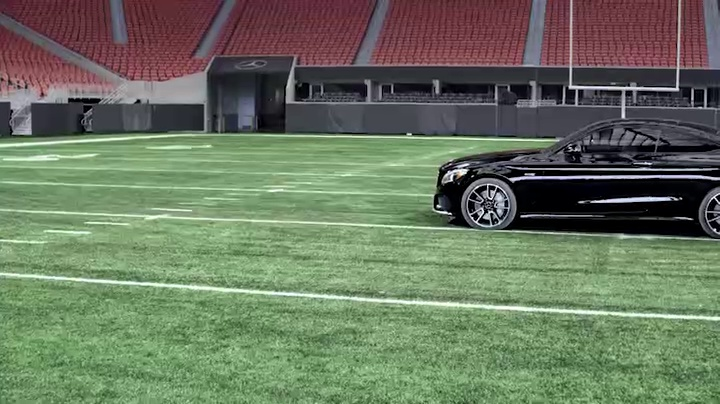amg: (433, 119, 720, 237)
